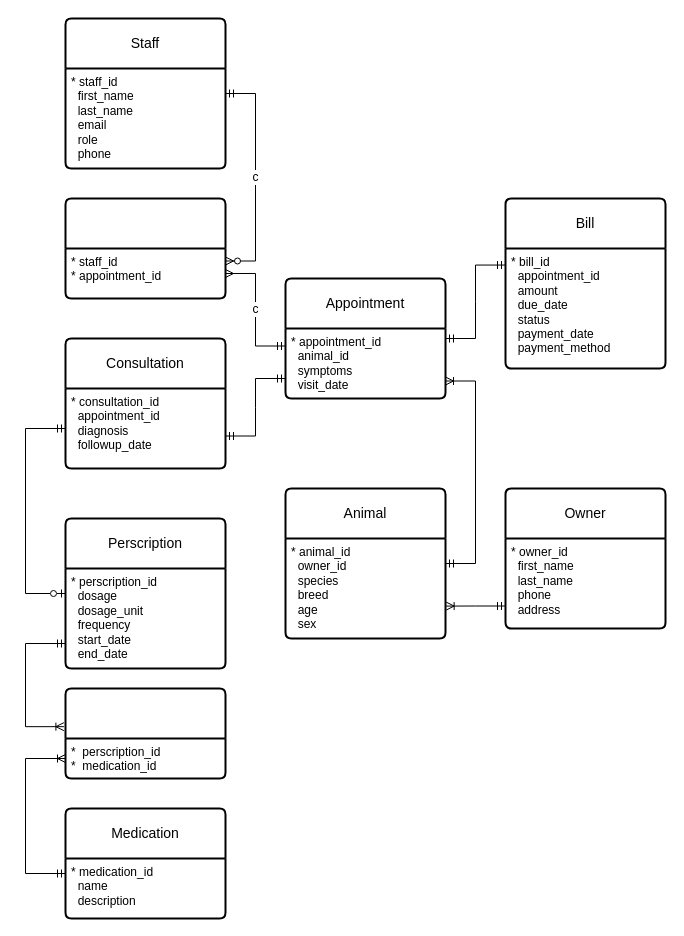
Some shapes in this 684 by 936 pixel diagram are drawn without their labels. Each missing label, with the box of its shape:
Perscription_Medication: (64, 687, 226, 779)
Staff_Appointment: (64, 197, 226, 299)
